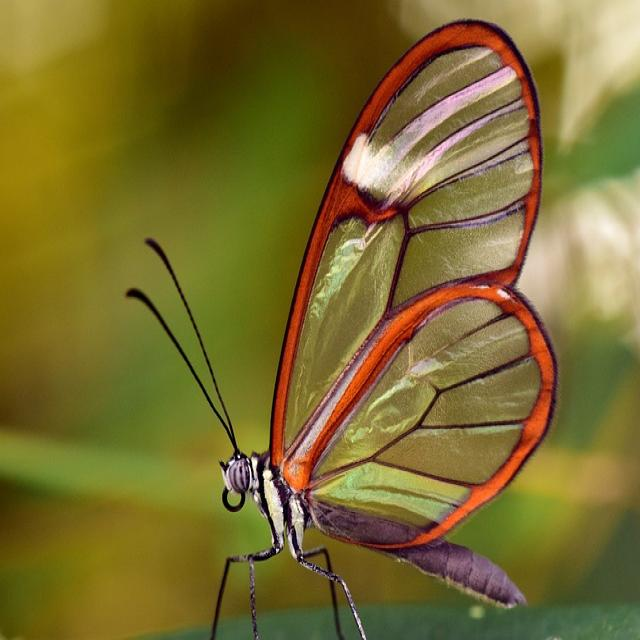butterfly: (224, 21, 556, 614)
